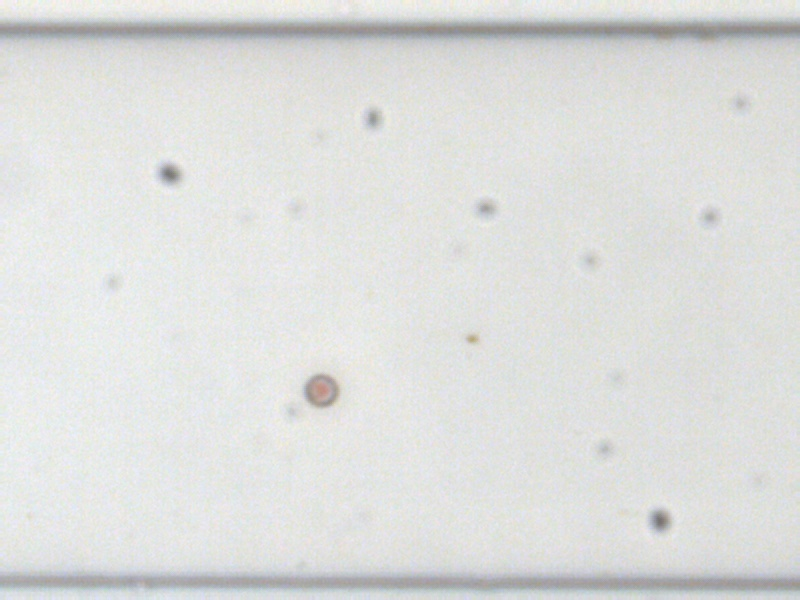Chlorella: (464, 331, 479, 345)
Porphyridium: (301, 371, 338, 408)
